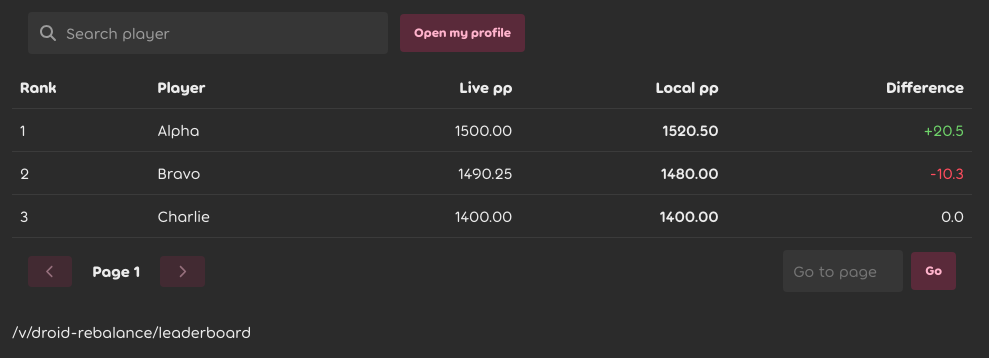
LeaderboardTab › offers Open my profile only when logged in
Expected: the text "Alpha" is shown, [150, 108, 328, 152]
Click the button "Open my profile": (463, 33) [400, 14, 525, 52]
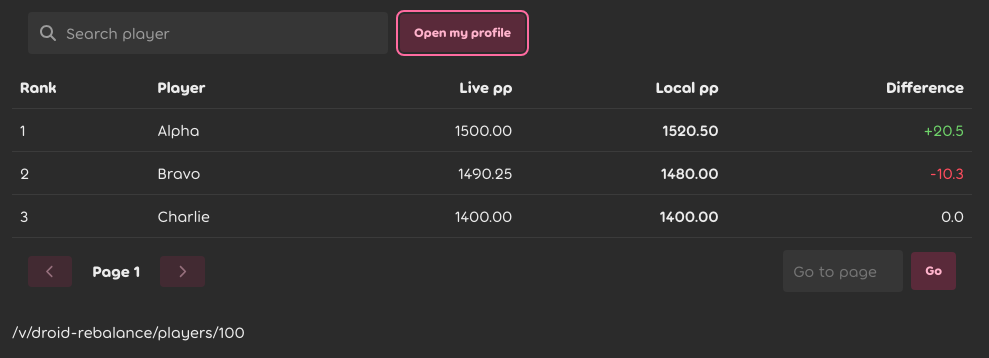
Result: the text with test id "location" reads "/v/droid-rebalance/players/100" at [12, 322, 245, 341]
